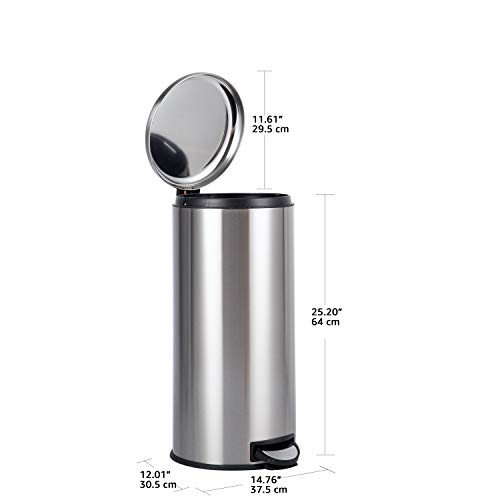1476: (251, 476, 281, 484)
25.20: (312, 308, 342, 316)
or: (140, 471, 170, 478)
